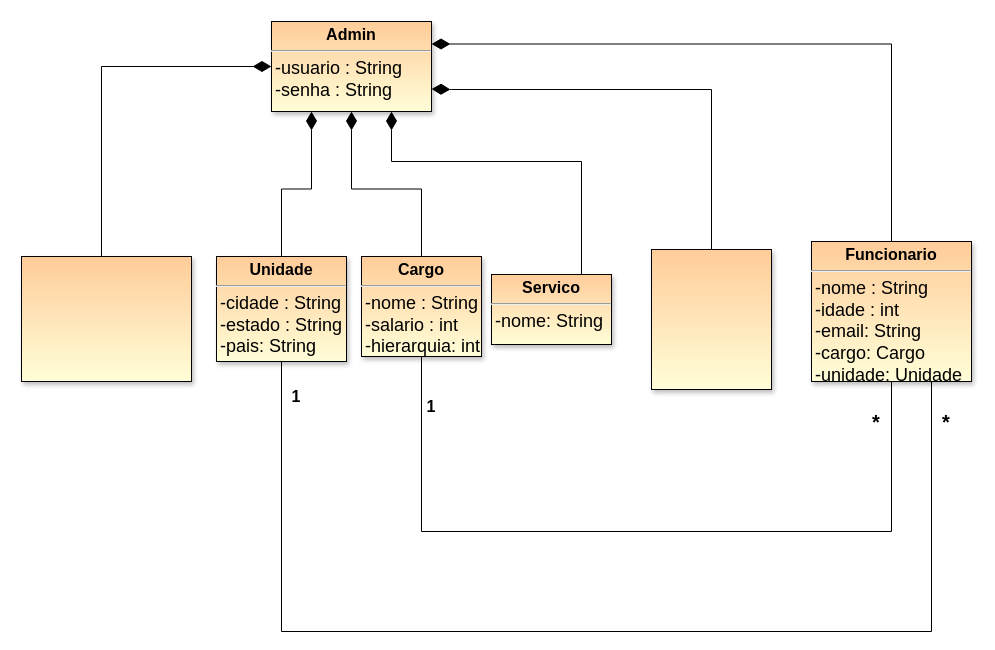
The diagram is 995 pixels wide and 650 high, and some of its shapes have lost their labels. The centre of each missing label's shape, as x and y in pixels:
"App -nome : String -tamanho : int -numDownloads: int -avaliacao: int" belongs at point 107,320.
"Usuario -nome : String -idade: int -email: String -senha: String -celular: int" belongs at point 712,320.
